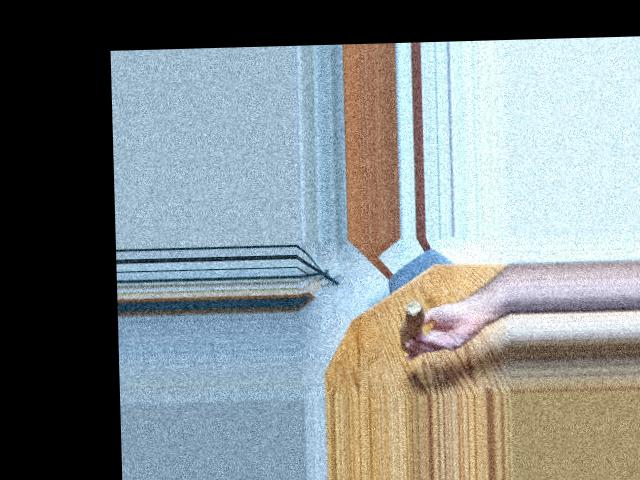sweet_potato: (396, 293, 438, 355)
